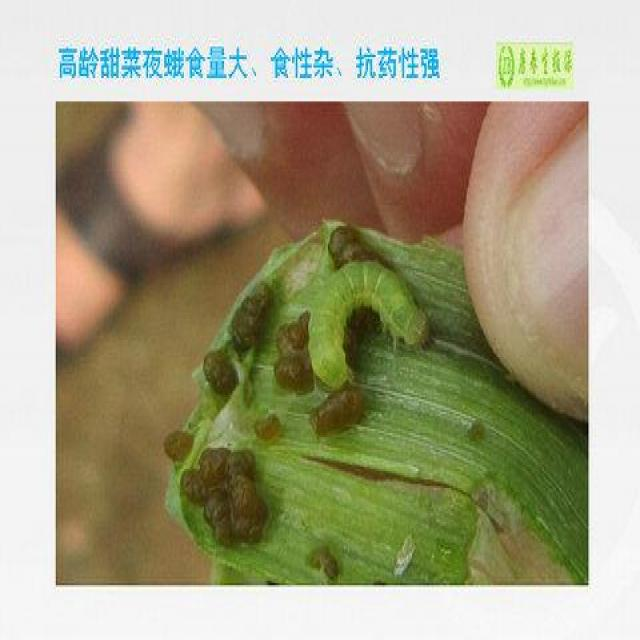BeetArmyWorm-Larva-: (304, 253, 433, 397)
